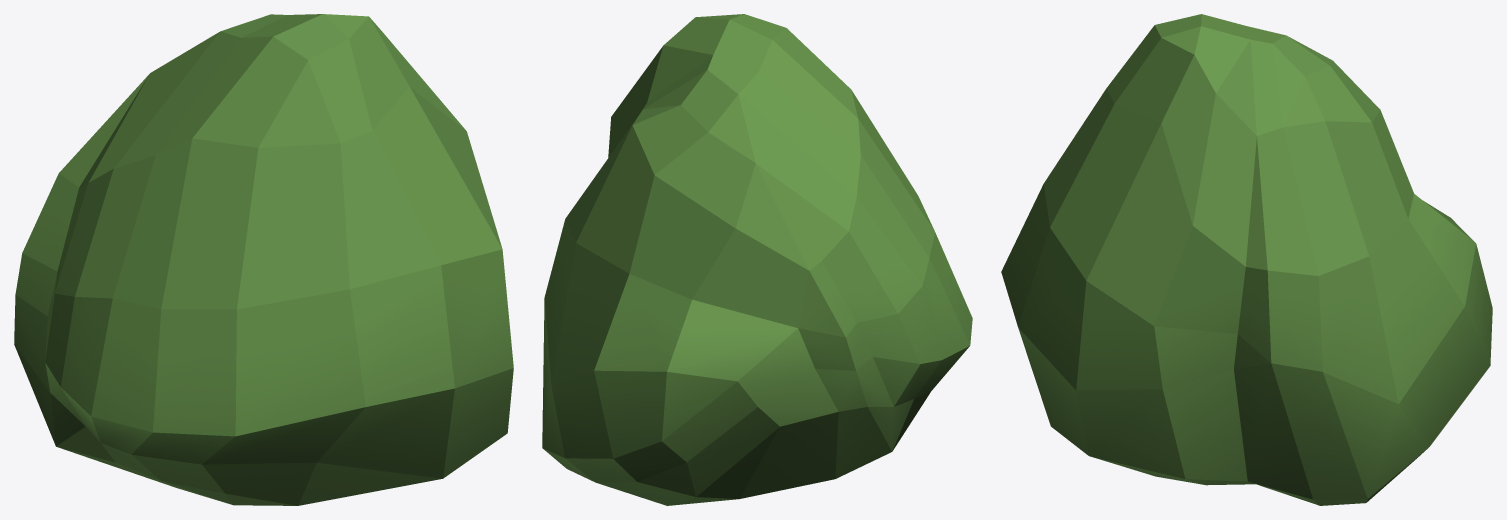
File: Birch-Bush-04.fbx
The picture shows the model from 3 angles, left to right: view 1: azimuth 30°, elevation 25°; view 2: azimuth 150°, elevation 25°; view 3: azimuth 270°, elevation 25°; orthographic projection. The views are drawn at different scales.
Parts seen in each view (by area): view 1: Birch-Bush-04; view 2: Birch-Bush-04; view 3: Birch-Bush-04.
Part boxes in pixels (<box>): Birch-Bush-04: <box>14,14,513,505</box>; Birch-Bush-04: <box>542,14,972,505</box>; Birch-Bush-04: <box>1001,14,1492,505</box>.
Bounding box in the file's own units: 461 × 516 × 524.
Materials: 1 (1 with a texture image).
